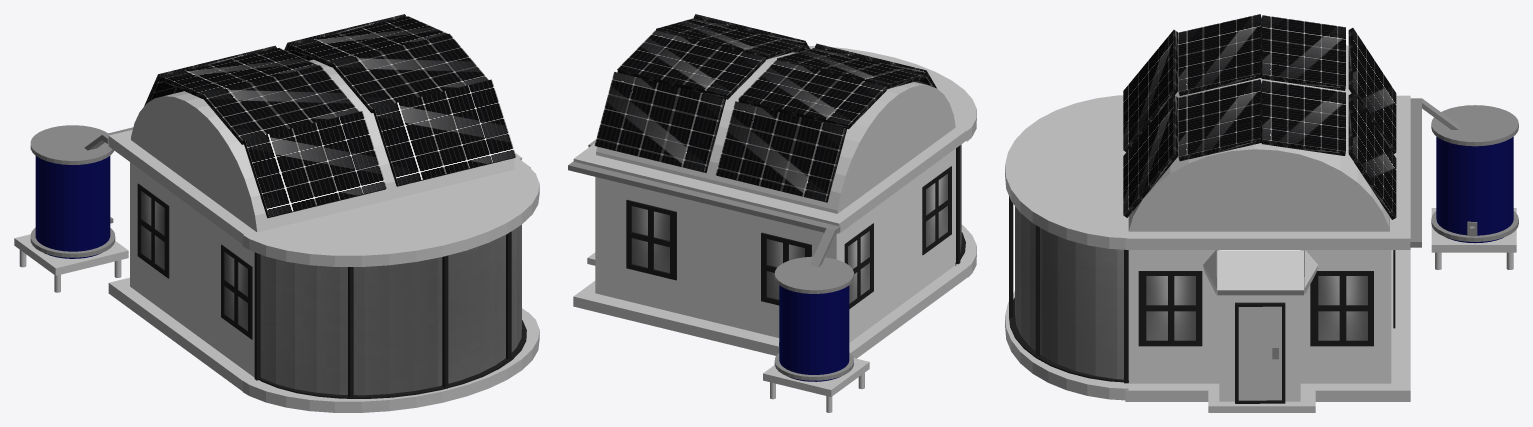
The model's file is earthship2.fbx.
3 renders of one model, left to right at view 1: azimuth 30°, elevation 25°; view 2: azimuth 150°, elevation 25°; view 3: azimuth 270°, elevation 25°, orthographic. The views are drawn at different scales.
Visible parts, largest first — view 1: Cylinder.015, Cube.038, Cylinder.016, Cylinder.013, Cube.040, Cube.023, Cube.039, Cylinder.017, Cylinder.002, Cube.053, Cylinder.019, Cube.025 (+9 smaller); view 2: Cube.023, Cube.033, Cylinder.013, Cube.039, Cube.025, Cube.053, Cylinder.017, Cube.040, Cylinder.019, window.002, Cube.055, Plane.005 (+8 smaller); view 3: Cylinder.013, Cylinder.016, Cube.023, Cylinder.015, Cube.039, Cube.040, Cube.053, Cube.038, Cylinder.017, Cube.033, Cube.025, Plane.004 (+15 smaller).
Boxes of the visible parts, x1,y1,x2,y2 form: Cylinder.015: (260,225,521,395); Cube.038: (243,79,516,218); Cylinder.016: (242,166,539,266); Cylinder.013: (131,59,515,232); Cube.040: (202,33,488,144); Cube.023: (130,162,254,377); Cube.039: (161,16,447,98); Cylinder.017: (35,156,110,258); Cylinder.002: (242,312,539,412); Cube.053: (108,130,530,243); Cylinder.019: (30,125,115,257); Cube.025: (108,277,527,391); Cube.023: (595,148,955,342); Cube.033: (594,71,846,202); Cylinder.013: (596,52,955,213); Cube.039: (617,30,886,128); Cube.025: (573,265,967,358); Cube.053: (573,128,967,233); Cylinder.017: (779,285,849,381); Cube.040: (656,18,924,89); Cylinder.019: (774,256,853,380); window.002: (626,199,811,305); Cube.055: (568,161,840,234); Plane.005: (632,206,804,299); Cylinder.013: (1128,39,1389,231); Cylinder.016: (1005,95,1128,249); Cube.023: (1128,250,1391,383); Cylinder.015: (1015,206,1123,379); Cube.039: (1261,15,1345,155); Cube.040: (1178,14,1261,161); Cube.053: (1125,95,1410,249); Cube.038: (1123,30,1177,217); Cylinder.017: (1436,136,1513,243); Cube.033: (1348,28,1396,219); Cube.025: (1125,250,1410,401); Plane.004: (1146,276,1367,340).
Bounding box in the file's own units: 2687 × 1751 × 3191.
